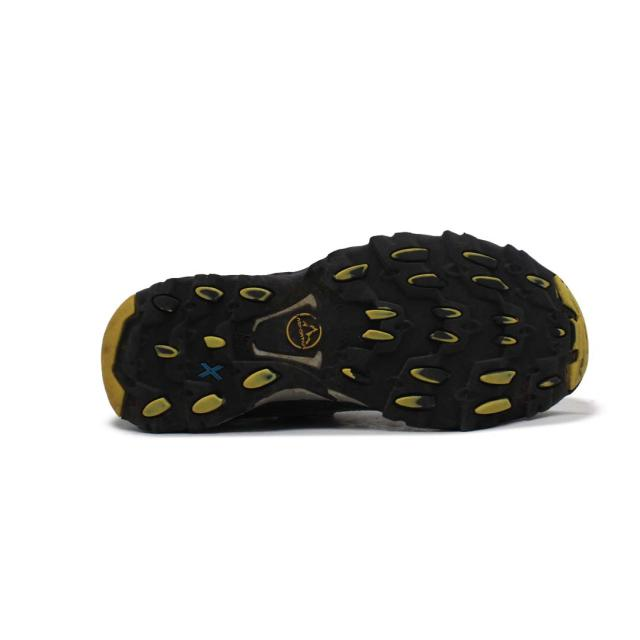outersole: (100, 228, 591, 432)
